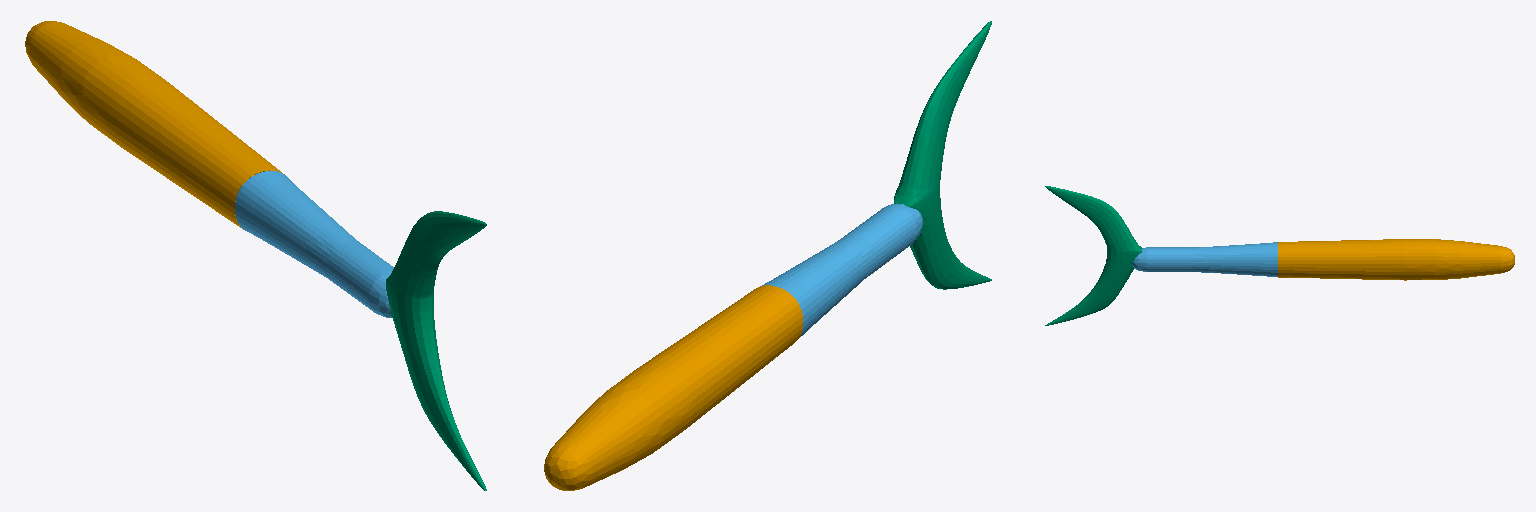
The robot description file, URDF, robot "fish4":
<?xml version="1.0" ?>
<!-- =================================================================================== -->
<!-- |    This document was autogenerated by xacro from Fish4.xacro                    | -->
<!-- |    EDITING THIS FILE BY HAND IS NOT RECOMMENDED                                 | -->
<!-- =================================================================================== -->
<robot name="fish4" xmlns:xacro="http://www.ros.org/wiki/xacro">
  <link name="base_link">
    <visual>
      <origin rpy="0 0 0" xyz="0 0 0"/>
      <geometry>
        <mesh filename="package://uwsim_models/uwsim_fish_urdf/Fish_models/Fish4_1.dae"/>
      </geometry>
    </visual>
  </link>

  <link name="body">
    <visual>
      <origin rpy="0 0 0" xyz="0 0 0"/>
      <geometry>
        <mesh filename="package://uwsim_models/uwsim_fish_urdf/Fish_models/Fish4_2.dae"/>
      </geometry>
    </visual>
  </link>

  <joint name="Slew" type="continuous">
    <parent link="base_link"/>
    <child link="body"/>
    <axis xyz="0 0 1"/>
    <origin rpy="0 0 0" xyz="0 0 0"/>
    <limit effort="1000.0" lower="-0.5488" upper="0.5488" velocity="1.0"/>
  </joint>

  <link name="tail">
    <visual>
      <origin rpy="0 0 0" xyz="0 0 0"/>
      <geometry>
        <mesh filename="package://uwsim_models/uwsim_fish_urdf/Fish_models/Fish4_Tail.dae"/>
      </geometry>
    </visual>
  </link>

  <joint name="Shoulder" type="continuous">
    <parent link="body"/>
    <child link="tail"/>
    <axis xyz="0 0 1"/>
    <origin rpy="0 0 0" xyz="0 -2.2 0"/>
    <limit effort="1000.0" lower="-0.5488" upper="0.5488" velocity="1.0"/>
  </joint>
</robot>

--- What the picture shows (computed from the rendered views, not written in the file) ---
3 views of the same robot in one strip: view 1: azimuth 30°, elevation 25°; view 2: azimuth 150°, elevation 25°; view 3: azimuth 270°, elevation 25° (orthographic).
Model fish4 with 3 links and 2 joints (2 continuous), rooted at base_link, posed every joint at zero.
Visible links, largest first — view 1: base_link, tail, body; view 2: base_link, tail, body; view 3: base_link, tail, body.
Boxes of the visible links, x1=… form: base_link: x1=25, y1=21, x2=284, y2=229; tail: x1=386, y1=211, x2=486, y2=490; body: x1=235, y1=171, x2=393, y2=317; base_link: x1=544, y1=285, x2=802, y2=490; tail: x1=894, y1=21, x2=991, y2=289; body: x1=762, y1=204, x2=922, y2=336; base_link: x1=1278, y1=239, x2=1514, y2=280; tail: x1=1045, y1=186, x2=1141, y2=325; body: x1=1133, y1=242, x2=1277, y2=276.
Bounding box of the posed robot: 0.6741 × 7.7 × 2.53 m (x, y, z).
Meshes: 3 distinct files referenced, 3 mesh visuals loaded (3 Collada DAE).